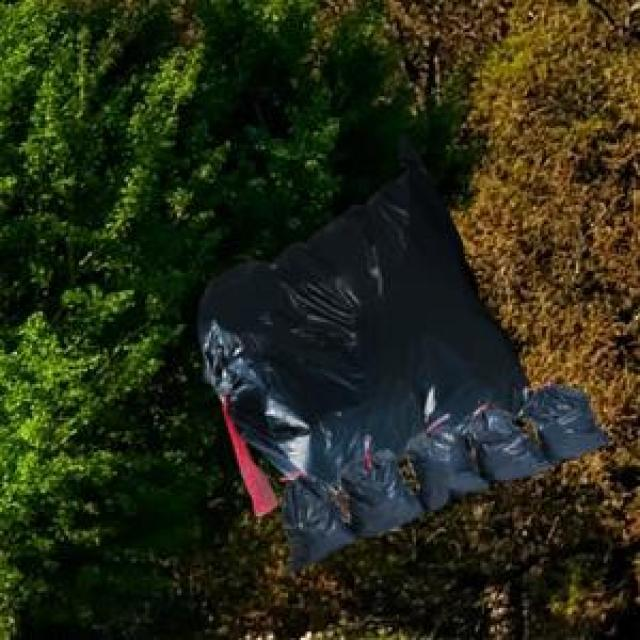Trashbag: (270, 478, 344, 560), (345, 453, 414, 537), (466, 406, 542, 481), (409, 429, 475, 507), (536, 389, 605, 459)
